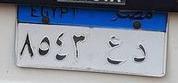3: (70, 32, 88, 63)
4: (53, 31, 68, 64)
5: (38, 35, 51, 59)
8: (18, 32, 34, 61)
ain: (105, 35, 124, 68)
daal: (130, 43, 148, 67)
